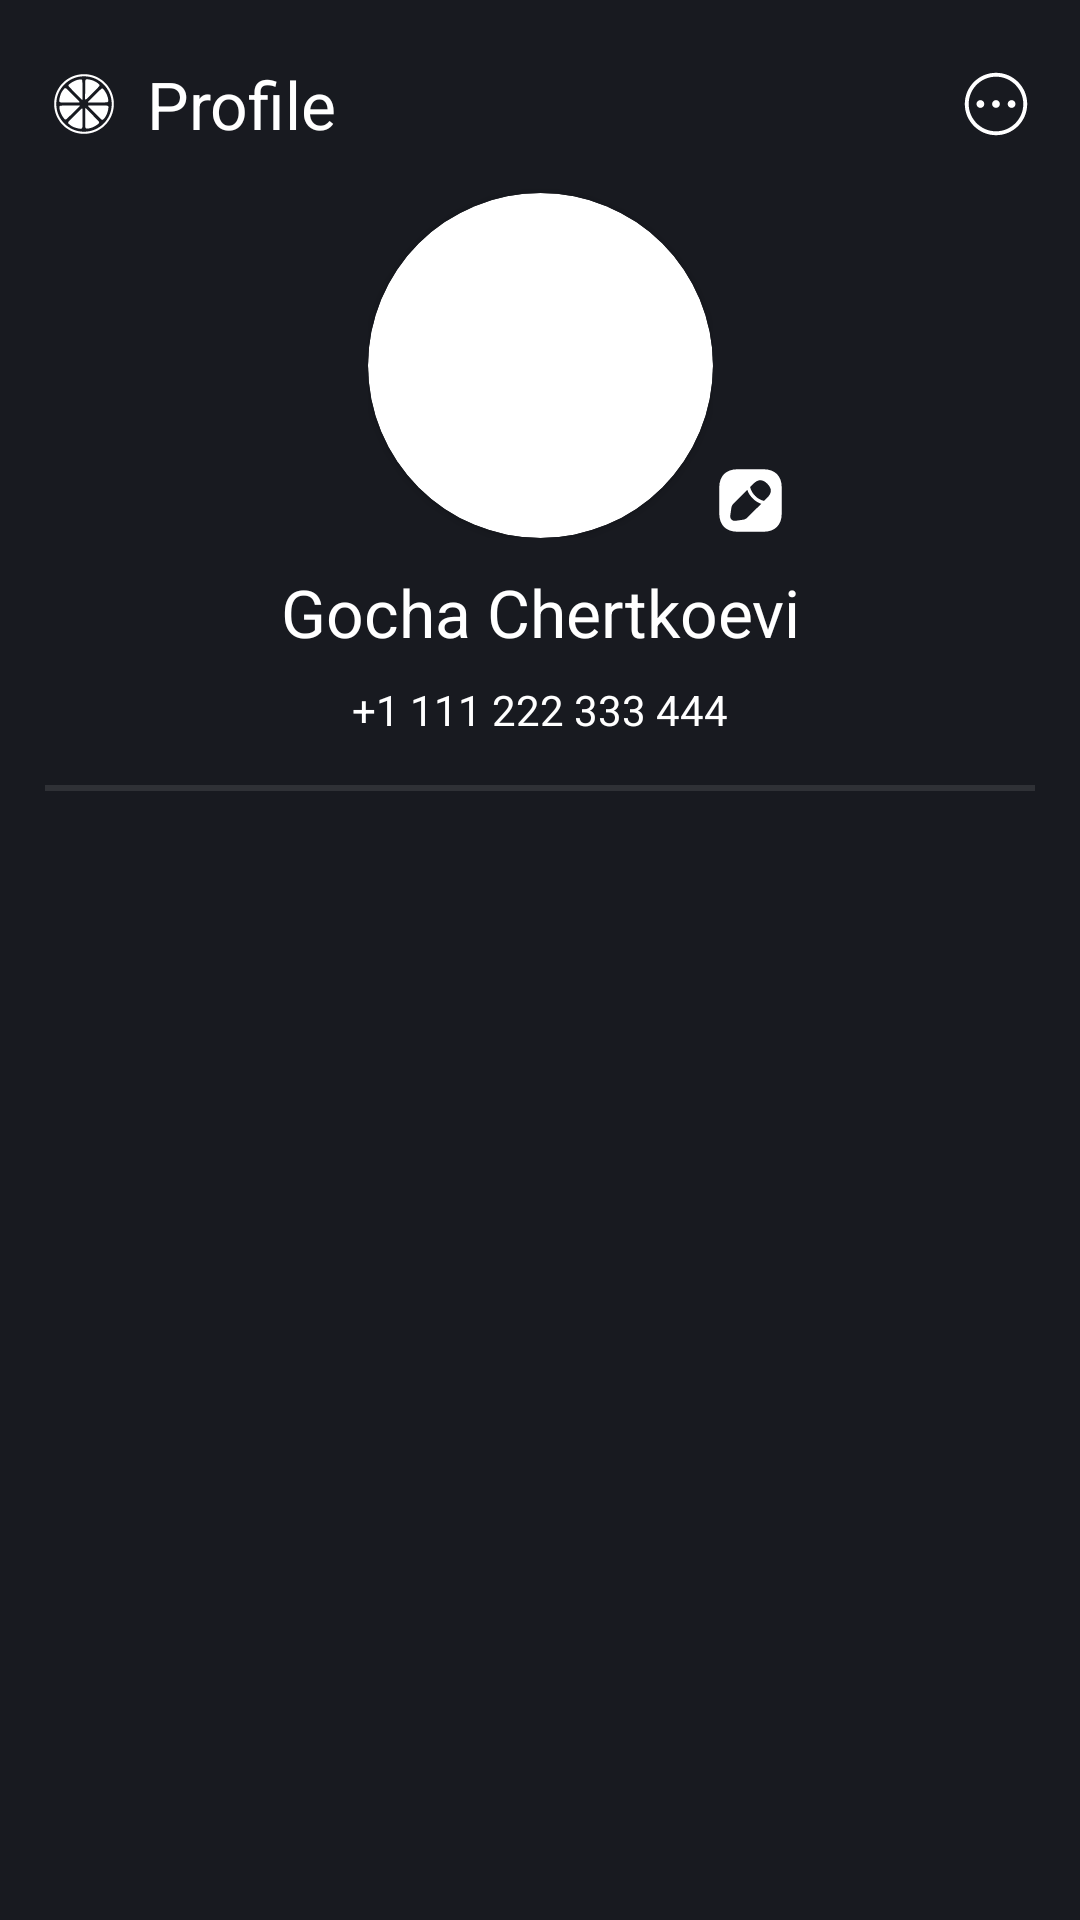

Where to tap for icons on this 1080w x 1920h app screen, as (x,y):
edit: (750,500)
